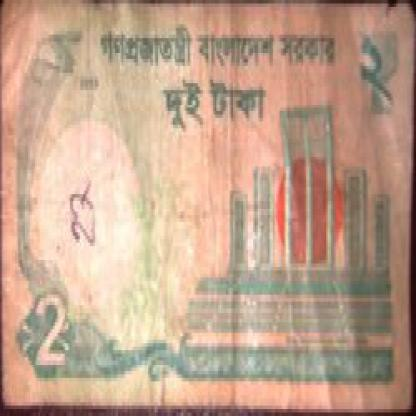two taka: (356, 45, 398, 128), (38, 295, 75, 374)
